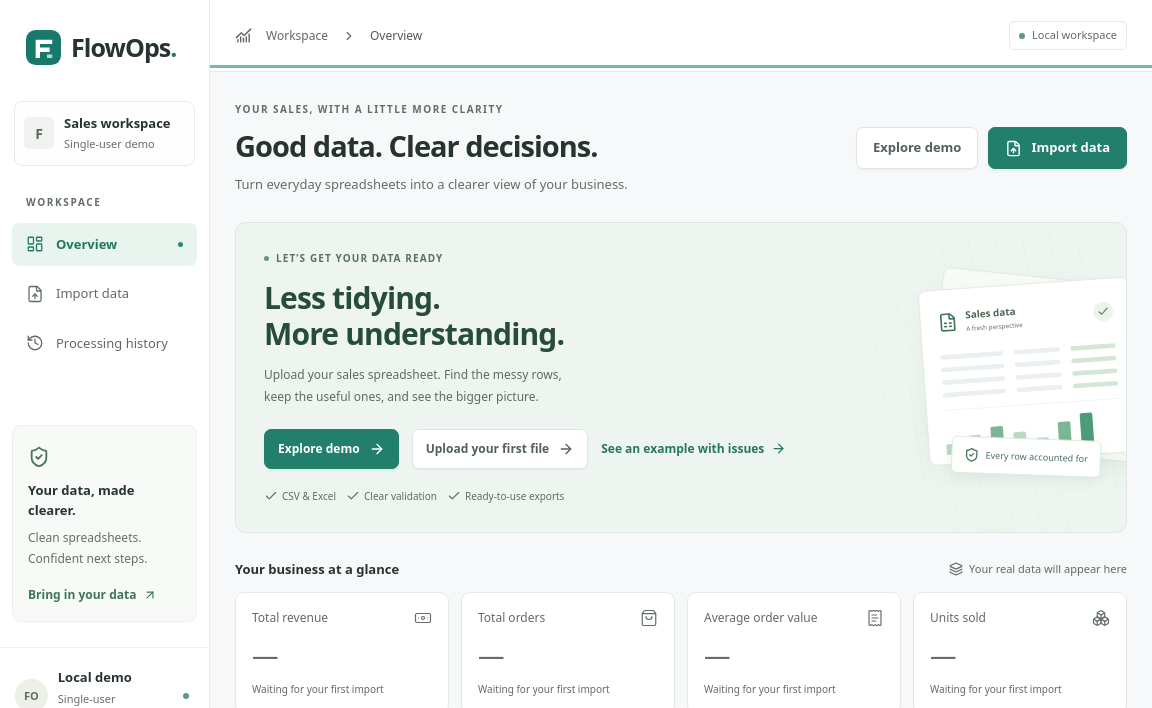
Scenario: opens a demo in one click using read-only requests
Step 1. Click the link "Explore demo" in the row of "Good data. Clear decisions." → (917, 148), box [856,128,978,169]
(page scrolled)
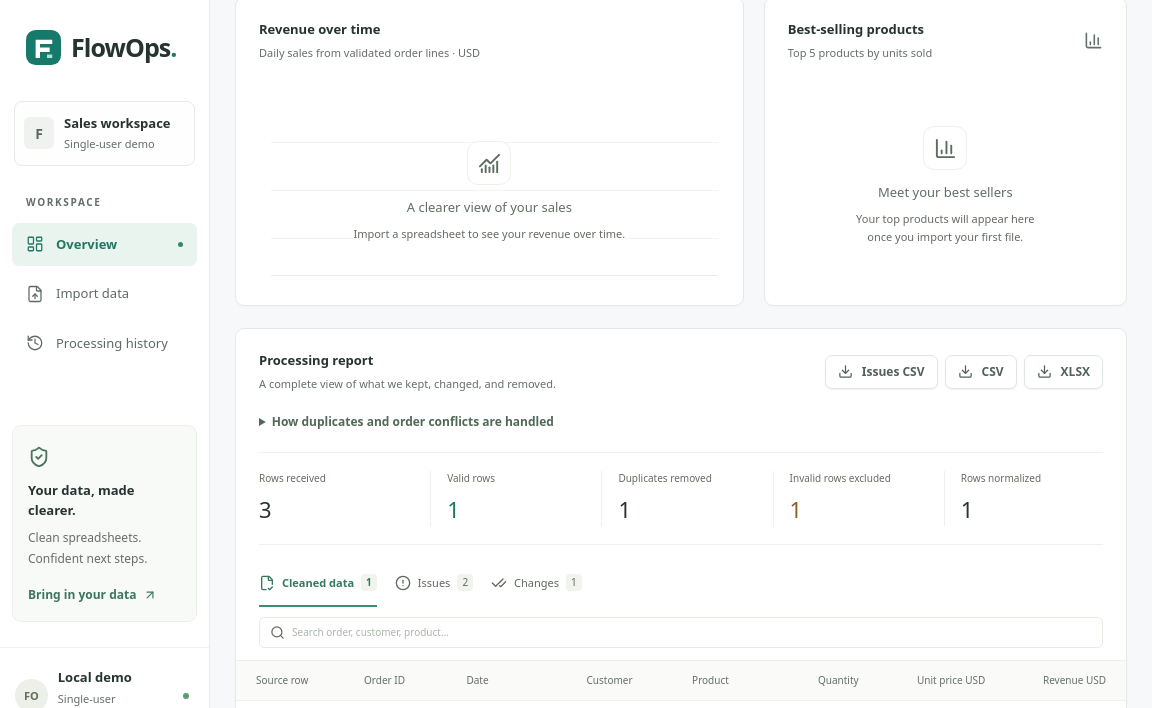
Expected: the heading "Processing report" is shown, [259,351,373,369]
